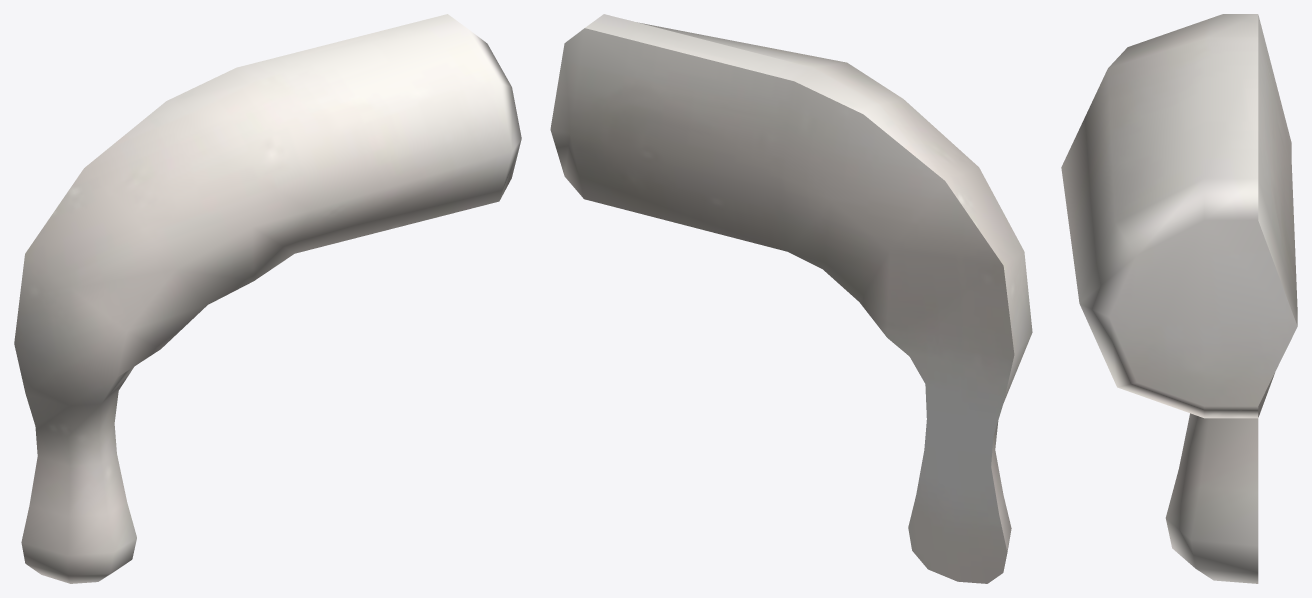
File: roof.gingerbread.top.line.end.left.glb
3 renders of one model, left to right at view 1: azimuth 30°, elevation 25°; view 2: azimuth 150°, elevation 25°; view 3: azimuth 270°, elevation 25°, orthographic. The views are drawn at different scales.
Visible parts, largest first — view 1: roof.top.line.end.left_LOD0; view 2: roof.top.line.end.left_LOD0; view 3: roof.top.line.end.left_LOD0.
Boxes of the visible parts, left/top/right/bottom form: roof.top.line.end.left_LOD0: left=14, top=14, right=521, bottom=583; roof.top.line.end.left_LOD0: left=550, top=14, right=1032, bottom=583; roof.top.line.end.left_LOD0: left=1061, top=14, right=1297, bottom=583.
Bounding box in the file's own units: 0.7355 × 0.7226 × 0.2394.
1 material, 1 textured.
